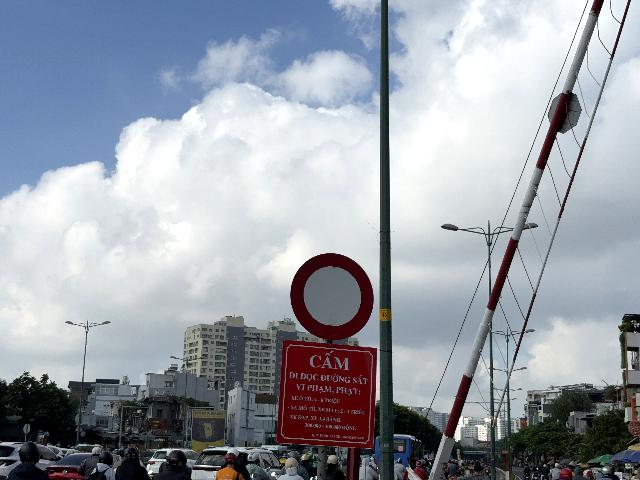duong-cam: (290, 253, 374, 341)
